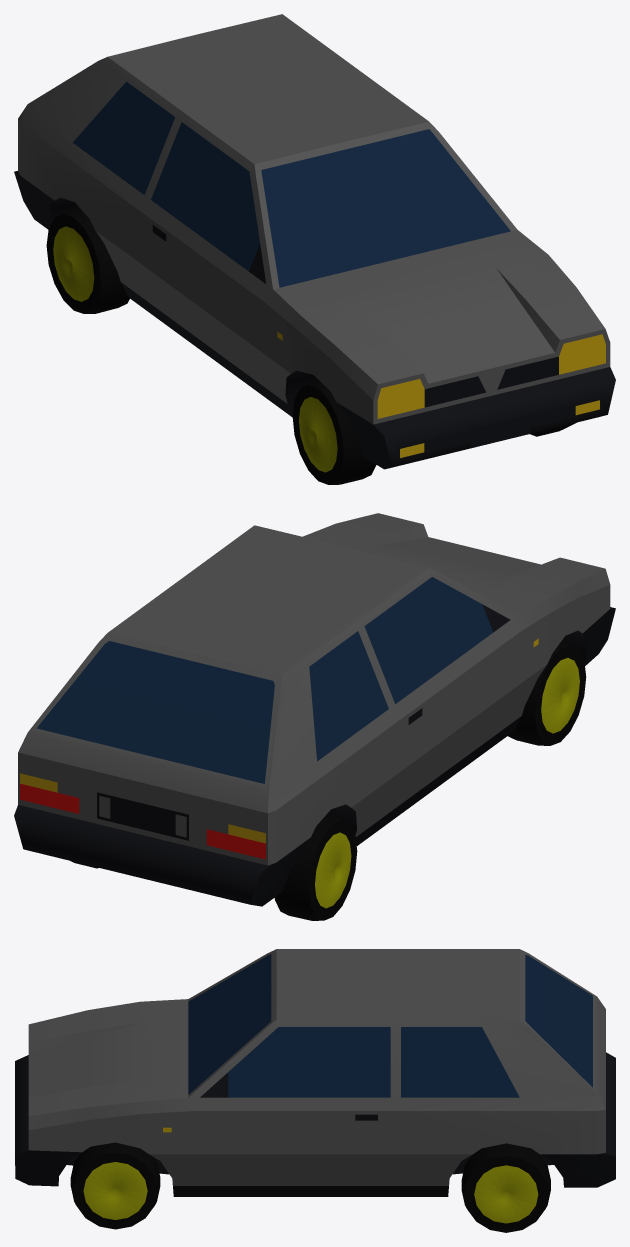
Rendered from Hatch.FBX.
3 views of the same model, one above another, from view 1: azimuth 30°, elevation 25°; view 2: azimuth 150°, elevation 25°; view 3: azimuth 270°, elevation 25° (orthographic). The views are drawn at different scales.
Parts seen in each view (by area): view 1: CarBody, Wheel_RD, Wheel_RF; view 2: CarBody, Wheel_RD, Wheel_RF; view 3: CarBody, Wheel_LD, Wheel_LF.
Part boxes in pixels (x1=…): CarBody: x1=14, y1=14, x2=615, y2=469; Wheel_RD: x1=46, y1=207, x2=129, y2=313; Wheel_RF: x1=292, y1=379, x2=376, y2=484; CarBody: x1=14, y1=513, x2=615, y2=906; Wheel_RD: x1=274, y1=814, x2=357, y2=920; Wheel_RF: x1=508, y1=641, x2=586, y2=745; CarBody: x1=15, y1=949, x2=615, y2=1196; Wheel_LD: x1=461, y1=1143, x2=550, y2=1232; Wheel_LF: x1=70, y1=1142, x2=160, y2=1229.
Size of the model in its own units: 19.42 by 16.56 by 45.45.
